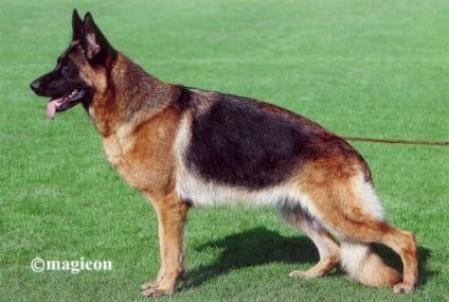German_shepherd: (28, 6, 418, 298)
